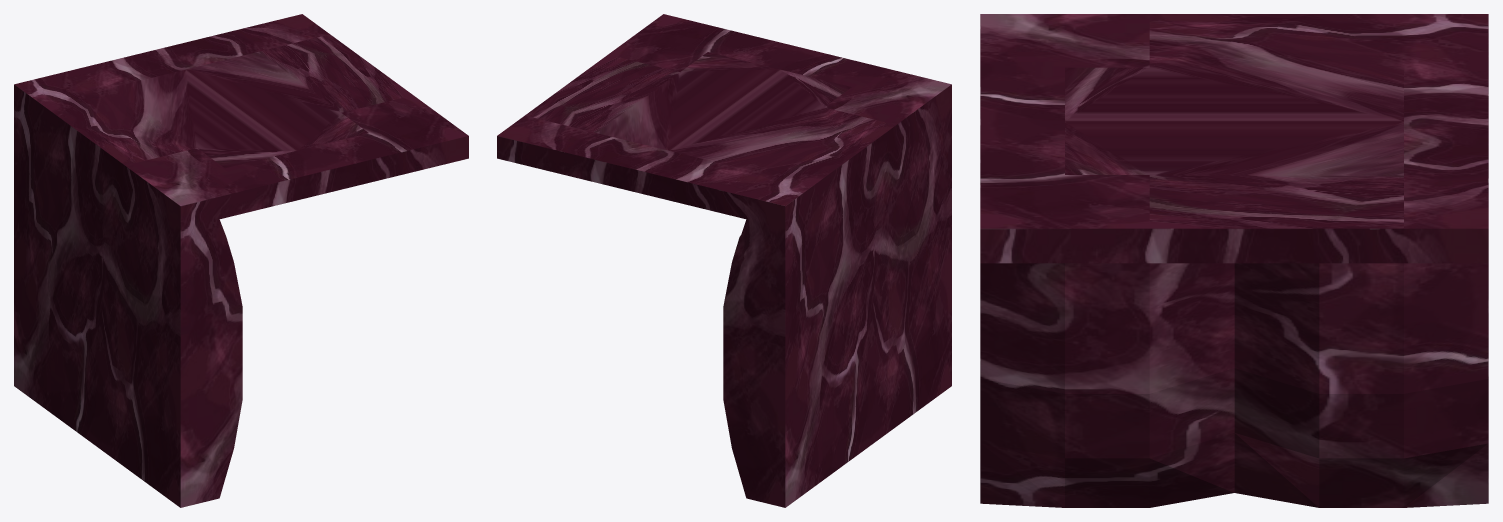
Rendered from EspacioPornoParedInteriorBajoNI.gltf.
3 views of the same model, side by side, from view 1: azimuth 30°, elevation 25°; view 2: azimuth 150°, elevation 25°; view 3: azimuth 270°, elevation 25° (orthographic). The views are drawn at different scales.
Visible parts, largest first — view 1: Cubo.28; view 2: Cubo.28; view 3: Cubo.28.
Part boxes in pixels (x1,y1,x2,y2): Cubo.28: (14,14,468,507); Cubo.28: (497,14,951,507); Cubo.28: (980,14,1488,507).
Bounding box in the file's own units: 2 × 2 × 2.
1 material, 1 textured.
